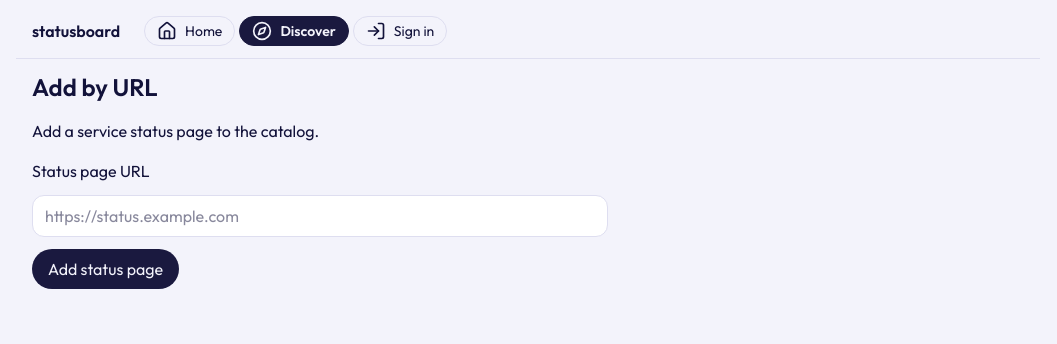
Scenario: an unknown URL gets a neutral request confirmation
The width and height of the screenshot is (1057, 344).
Type "https://example.test/status" into the field labelled "Status page URL" at (320, 216), box [32,195,608,237]
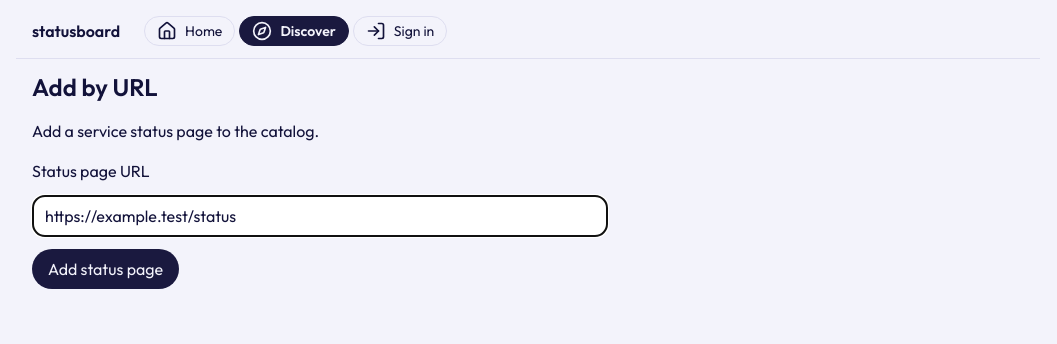
Click the button "Add status page" at (106, 269), box [32,249,179,289]
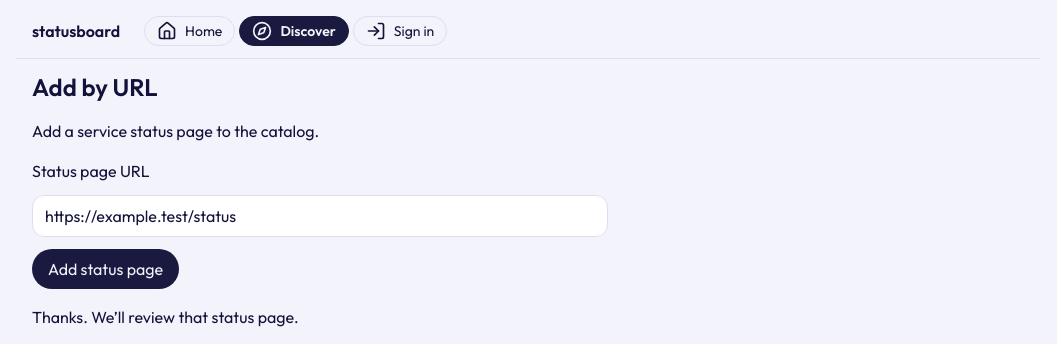
Now the text "Thanks. We’ll review that status page." is shown, box [32,307,299,327]
